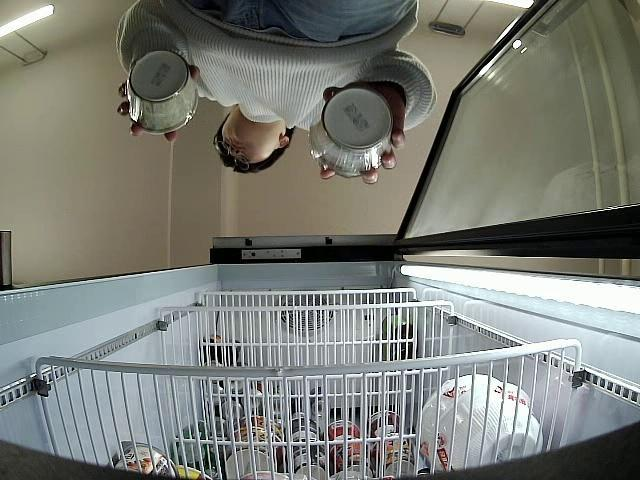04_chapagetti_S: (310, 88, 394, 175), (125, 52, 198, 132)
